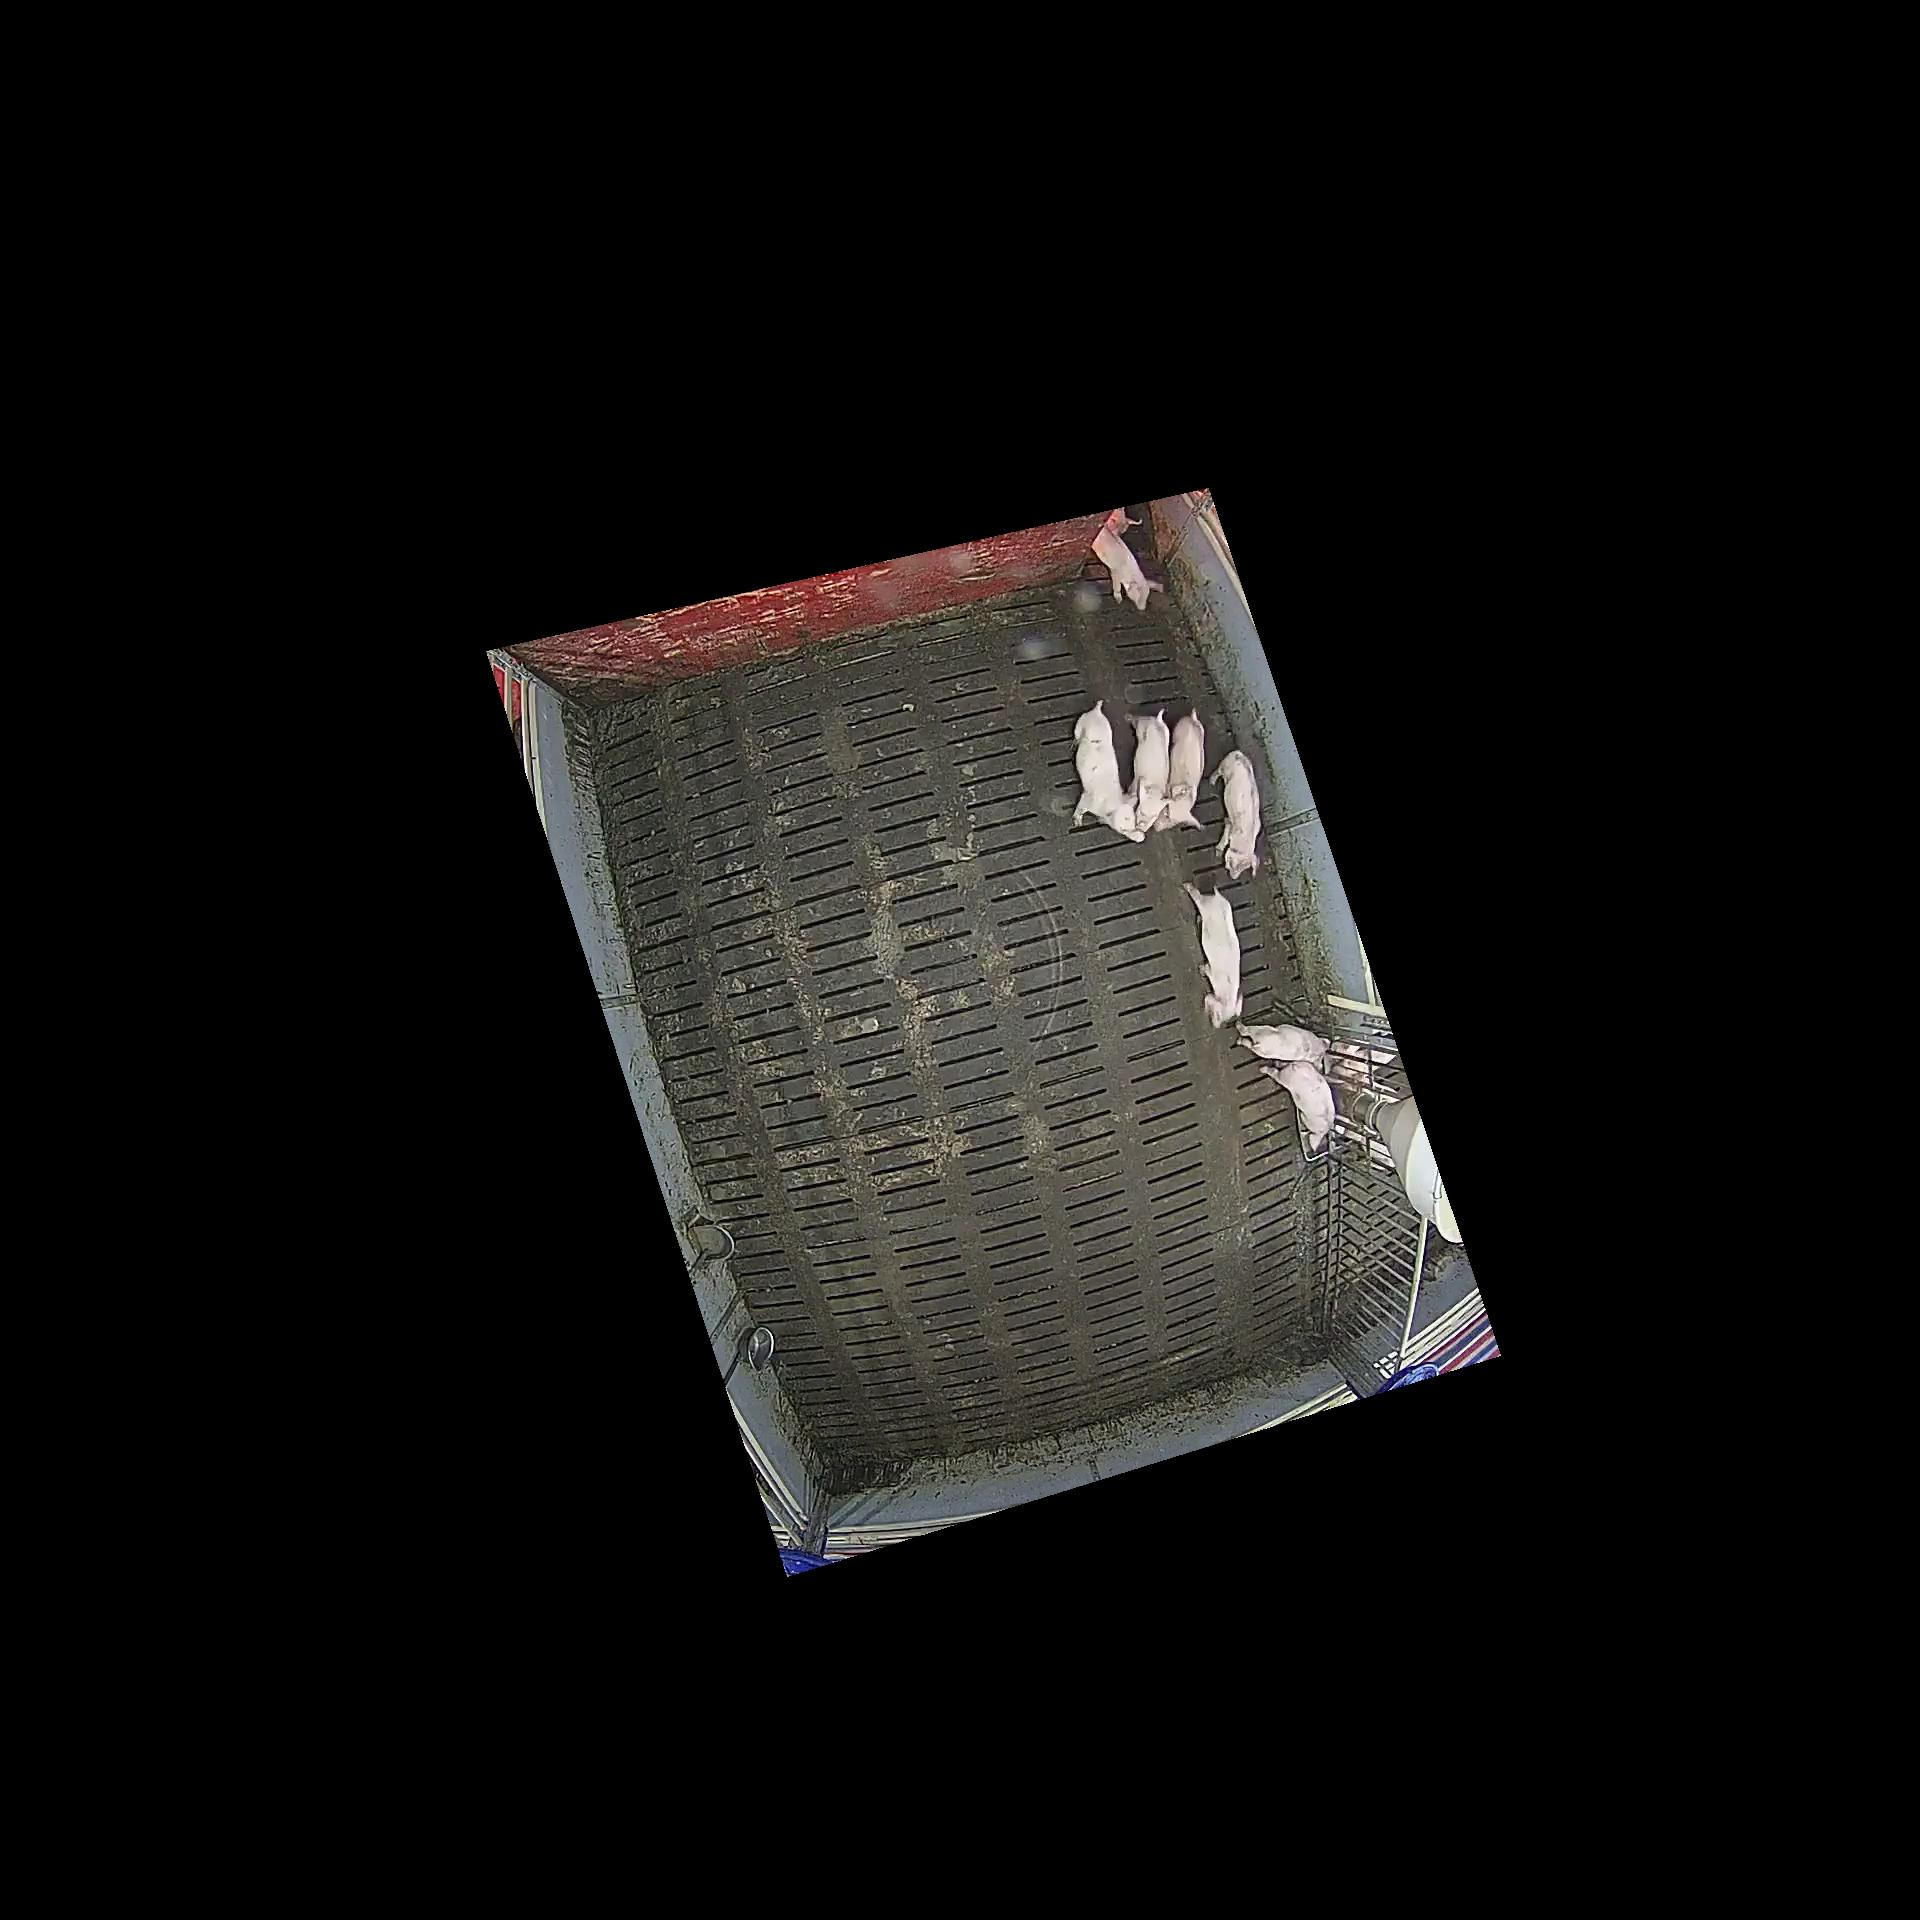pig: (1069, 703, 1146, 842), (1180, 881, 1241, 1030), (1210, 749, 1262, 881), (1259, 1062, 1335, 1153), (1155, 709, 1206, 830), (1124, 712, 1169, 830), (1236, 1020, 1331, 1062)
